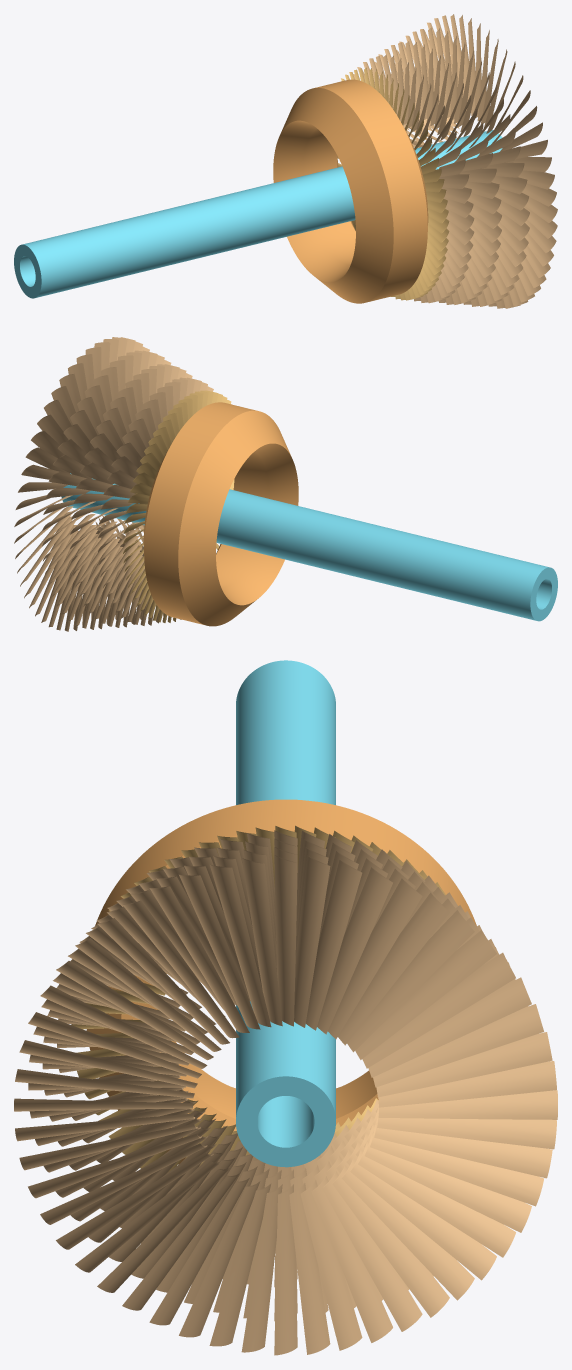
The model's file is L3_hpt_combustor.glb.
The picture shows the model from 3 angles, top to bottom: view 1: azimuth 30°, elevation 25°; view 2: azimuth 150°, elevation 25°; view 3: azimuth 270°, elevation 25°; orthographic projection. The views are drawn at different scales.
Parts seen in each view (by area): view 1: lpt_4stage_low_pressure_turbine, double_annular_combustor_liner, n1_n2_concentric_drive_shaft_core, hpt_single_stage_cooled_rotor_72blades; view 2: lpt_4stage_low_pressure_turbine, double_annular_combustor_liner, n1_n2_concentric_drive_shaft_core, hpt_single_stage_cooled_rotor_72blades; view 3: lpt_4stage_low_pressure_turbine, n1_n2_concentric_drive_shaft_core, double_annular_combustor_liner, hpt_single_stage_cooled_rotor_72blades.
Boxes of the visible parts, x1,y1,x2,y2 form: lpt_4stage_low_pressure_turbine: (353,14,557,308); double_annular_combustor_liner: (273,79,428,303); n1_n2_concentric_drive_shaft_core: (14,130,502,298); hpt_single_stage_cooled_rotor_72blades: (337,67,449,300); lpt_4stage_low_pressure_turbine: (14,337,213,631); double_annular_combustor_liner: (143,402,298,626); n1_n2_concentric_drive_shaft_core: (61,473,557,621); hpt_single_stage_cooled_rotor_72blades: (122,390,234,622); lpt_4stage_low_pressure_turbine: (14,830,557,1355); n1_n2_concentric_drive_shaft_core: (236,660,335,1167); double_annular_combustor_liner: (86,799,476,1164); hpt_single_stage_cooled_rotor_72blades: (71,825,445,1172).
Bounding box in the file's own units: 2.75 × 1.52 × 1.52.
